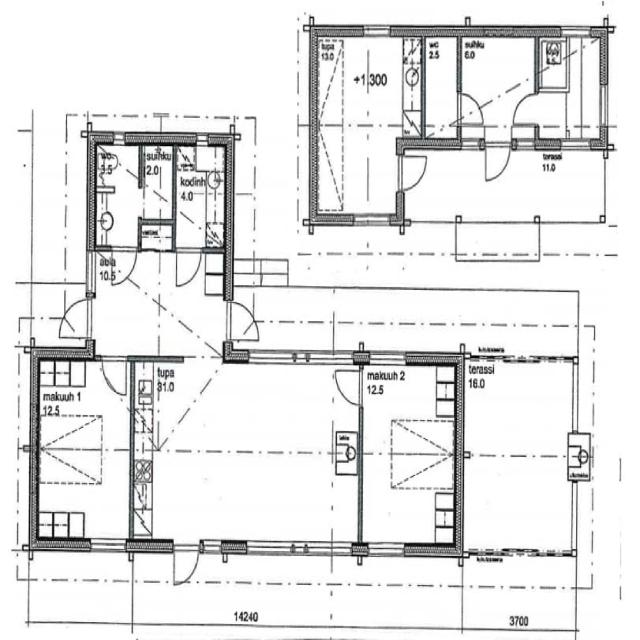door: (224, 296, 261, 344), (483, 128, 512, 184), (171, 538, 202, 588), (62, 294, 94, 340), (173, 243, 203, 289), (109, 245, 140, 289), (100, 354, 129, 398), (399, 151, 429, 193), (333, 366, 363, 406), (511, 89, 540, 128), (457, 89, 485, 124)
window: (246, 348, 300, 369), (568, 362, 582, 436), (246, 538, 295, 558), (87, 534, 129, 557), (350, 211, 393, 231), (366, 540, 406, 560), (408, 216, 458, 232), (84, 248, 98, 298), (558, 137, 594, 156), (597, 82, 611, 129), (367, 349, 408, 365), (200, 537, 225, 557), (361, 23, 392, 39), (294, 90, 302, 123), (0, 124, 18, 137), (112, 134, 128, 147), (432, 581, 450, 591), (294, 49, 301, 74), (196, 134, 210, 146), (341, 249, 358, 258)
zone: (361, 360, 456, 549), (36, 358, 132, 542), (463, 362, 575, 452), (317, 36, 422, 130), (315, 124, 400, 220), (535, 36, 602, 141), (460, 39, 536, 117), (175, 145, 227, 251), (0, 140, 32, 284), (95, 143, 137, 247), (423, 37, 460, 142), (141, 144, 174, 222), (95, 144, 142, 186), (538, 39, 569, 92), (567, 434, 591, 480), (139, 221, 174, 251)
